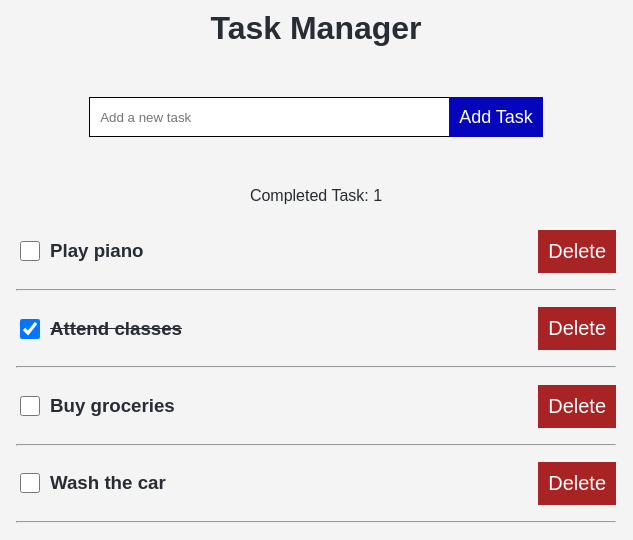
Test: App component › deletes a task when delete button is clicked
This screenshot has width=633, height=540.
Expected: the heading "Play piano" is shown, top-left (50, 240), bottom-right (144, 262)
Click the button "Delete" in the row of "Play piano": [577, 251] box top-left (538, 230), bottom-right (616, 273)
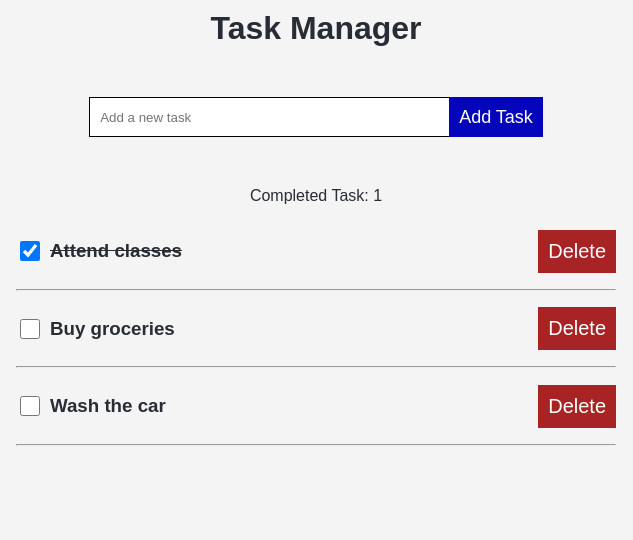
Result: the heading "Play piano" is gone
